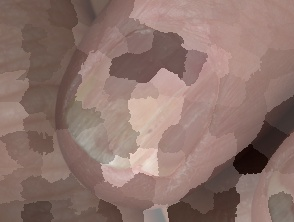Nail_psoriasis: (44, 47, 227, 206)
